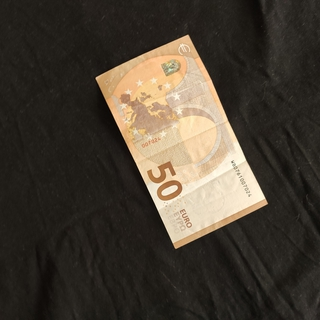50EUROBack: (93, 32, 269, 251)
